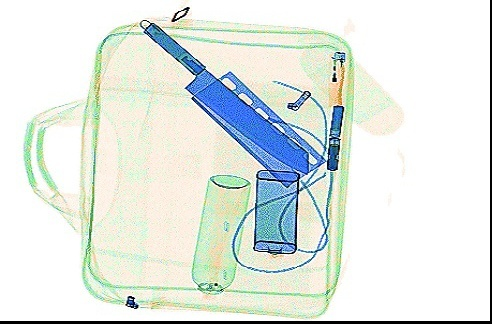knife: (137, 17, 310, 176)
lighter: (327, 49, 345, 107)
pressure: (190, 173, 250, 295)
zippooil: (252, 168, 299, 255)
